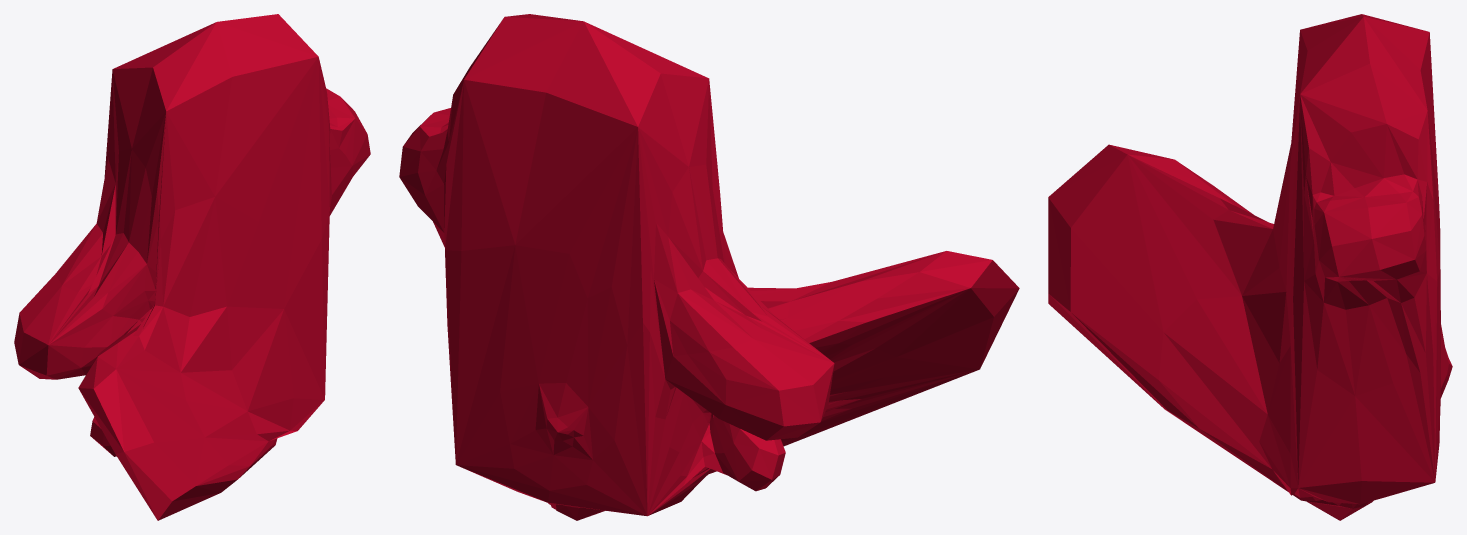
3 views of the same model, side by side, from view 1: azimuth 30°, elevation 25°; view 2: azimuth 150°, elevation 25°; view 3: azimuth 270°, elevation 25° (orthographic). The views are drawn at different scales.
Visible parts, largest first — view 1: 941_Cube.3803; view 2: 941_Cube.3803; view 3: 941_Cube.3803.
Boxes of the visible parts, <box> form: 941_Cube.3803: <box>14,14,370,520</box>; 941_Cube.3803: <box>399,14,1019,520</box>; 941_Cube.3803: <box>1048,14,1452,520</box>.
Size of the model in its own units: 12.09 by 13.28 by 9.83.
